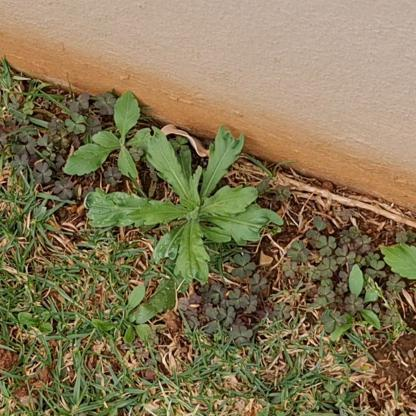Weeds: (82, 124, 282, 281), (62, 90, 170, 183), (323, 264, 384, 343), (90, 285, 155, 345)
